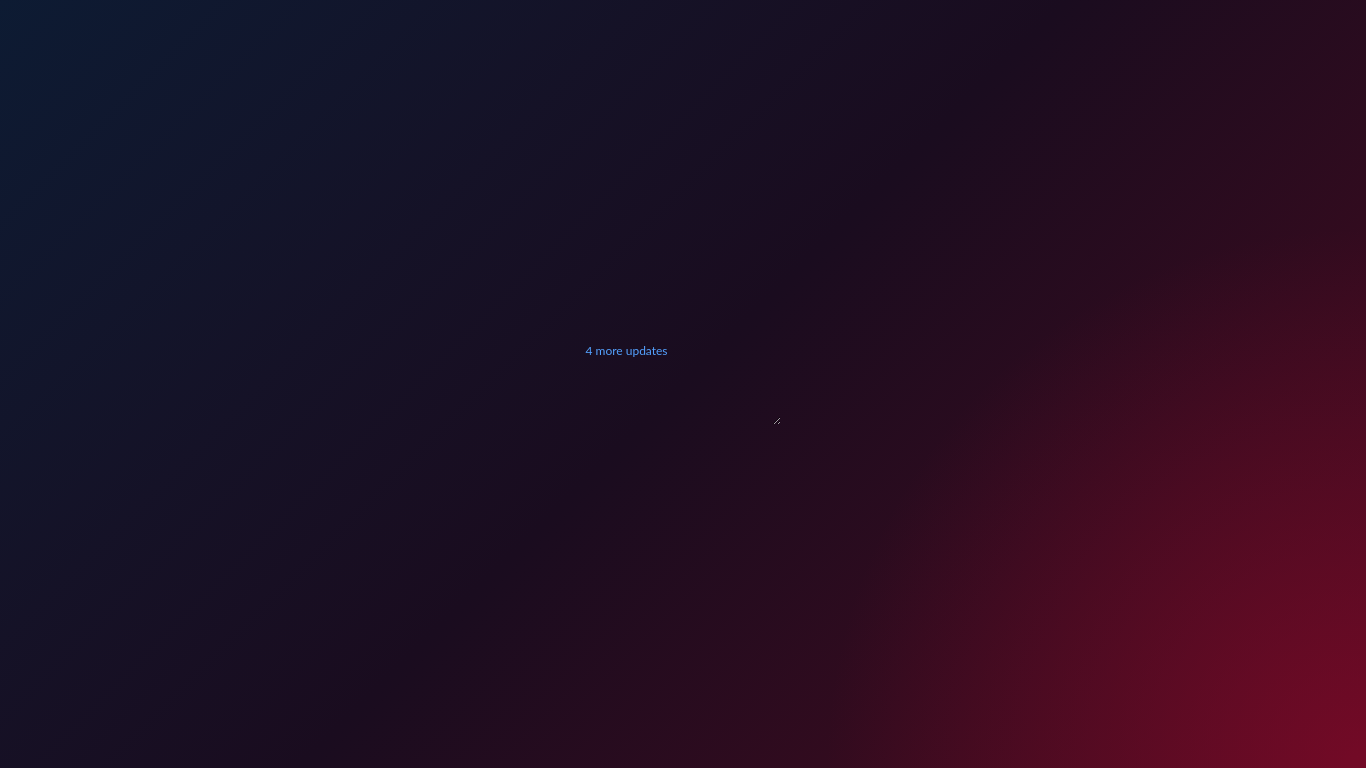
Test: tracker parts › ActivityTimeline collapses event runs and toggles
Check: the text "ev1" is not shown
Click the button "4 more updates".
click(627, 351)  # box x1=586 y1=343 x2=668 y2=359
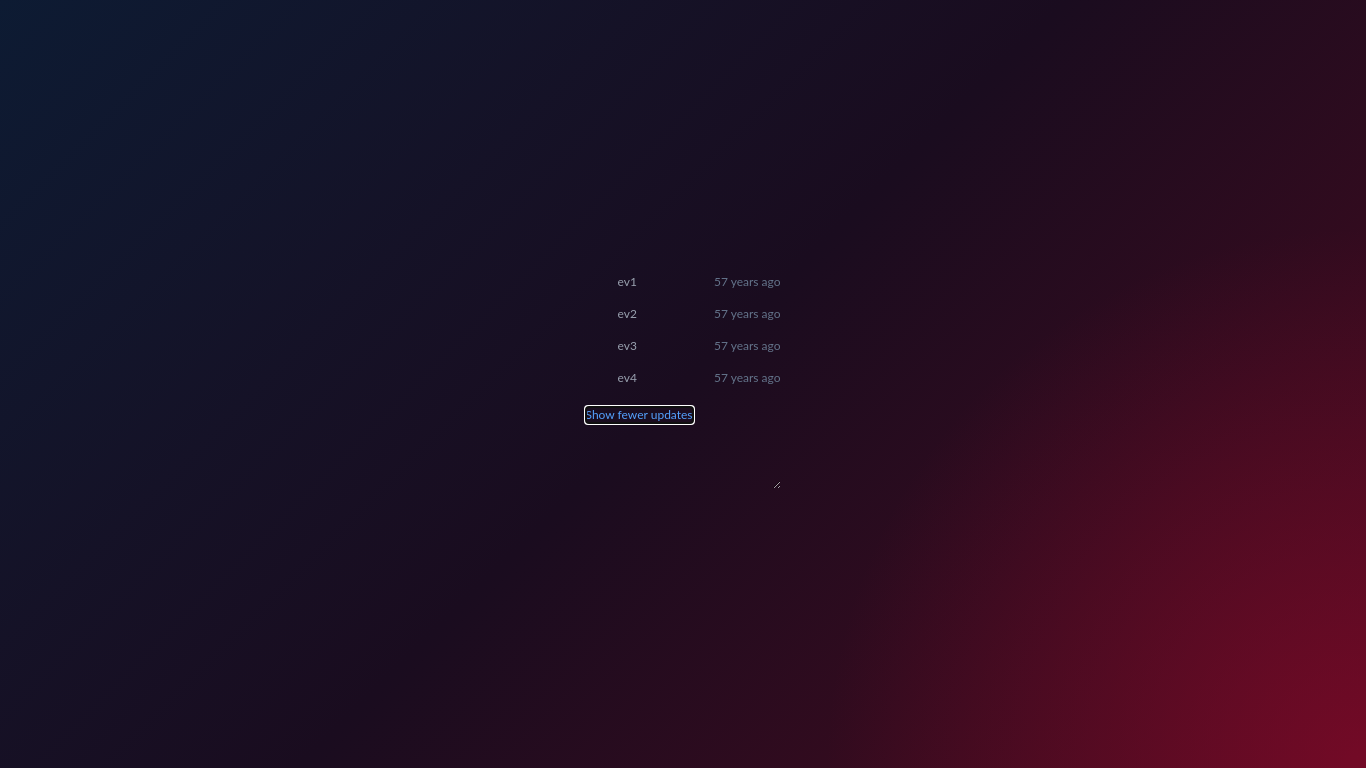
Check: the text box named "c" is shown, box x1=586 y1=438 x2=780 y2=489
Check: the text "ev1" is shown, box x1=618 y1=274 x2=637 y2=290
